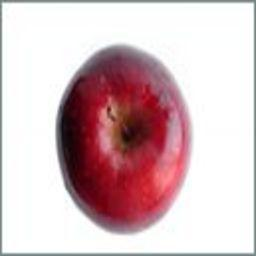apple: (58, 45, 192, 233)
